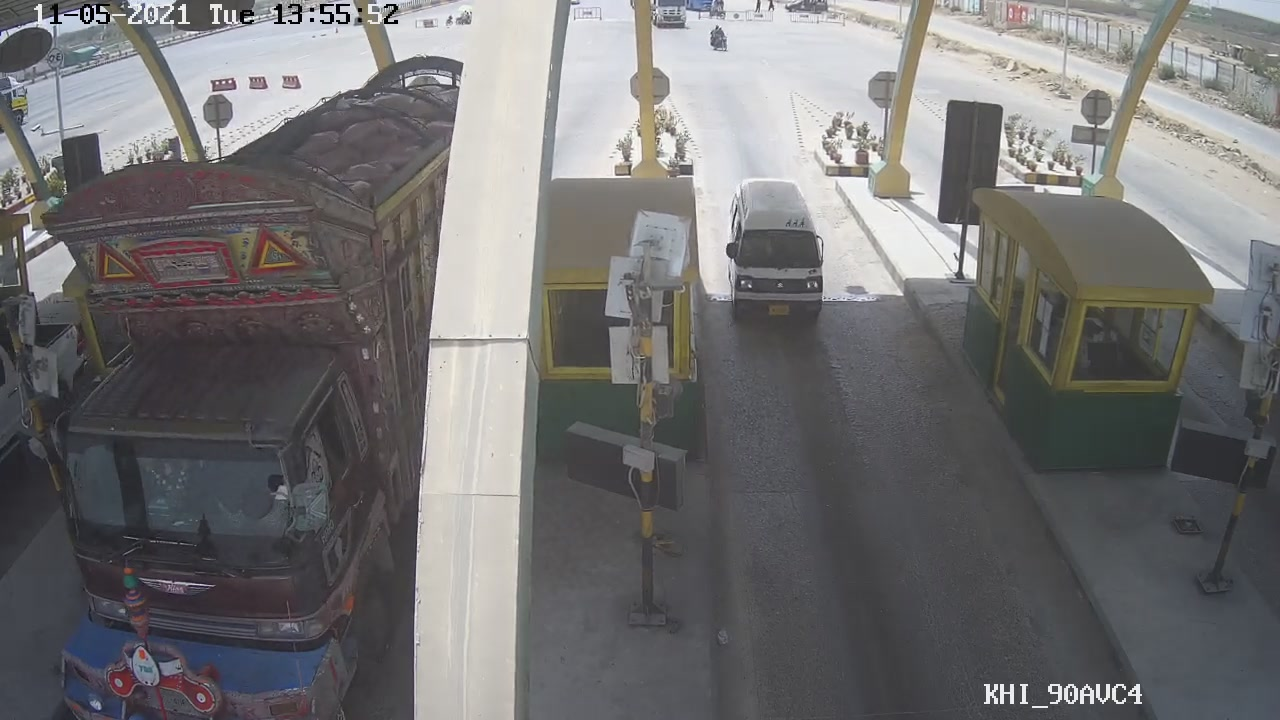F1: (704, 174, 838, 334)
